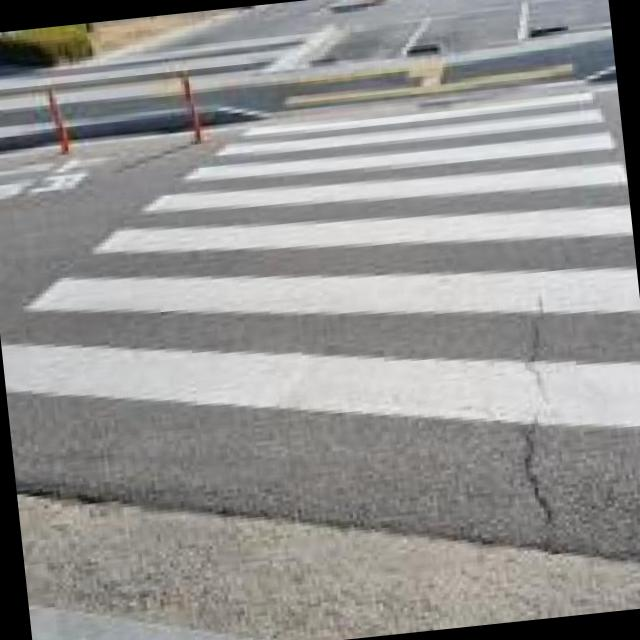zebra: (7, 73, 640, 442)
